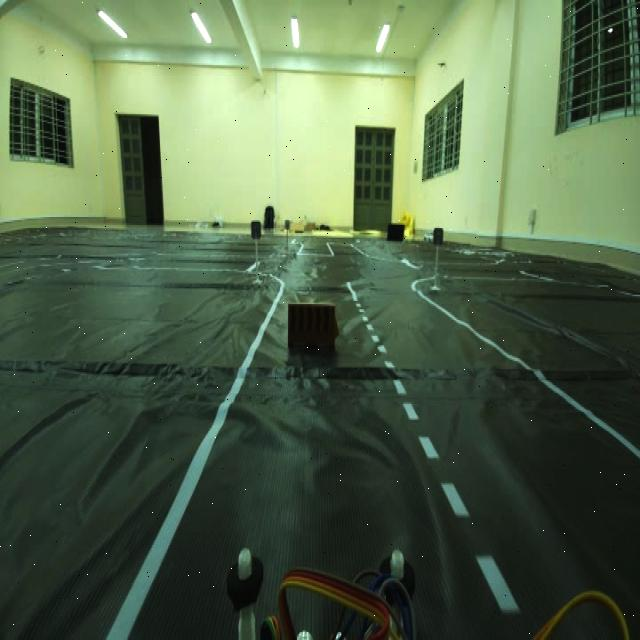roadblock: (282, 290, 344, 383)
